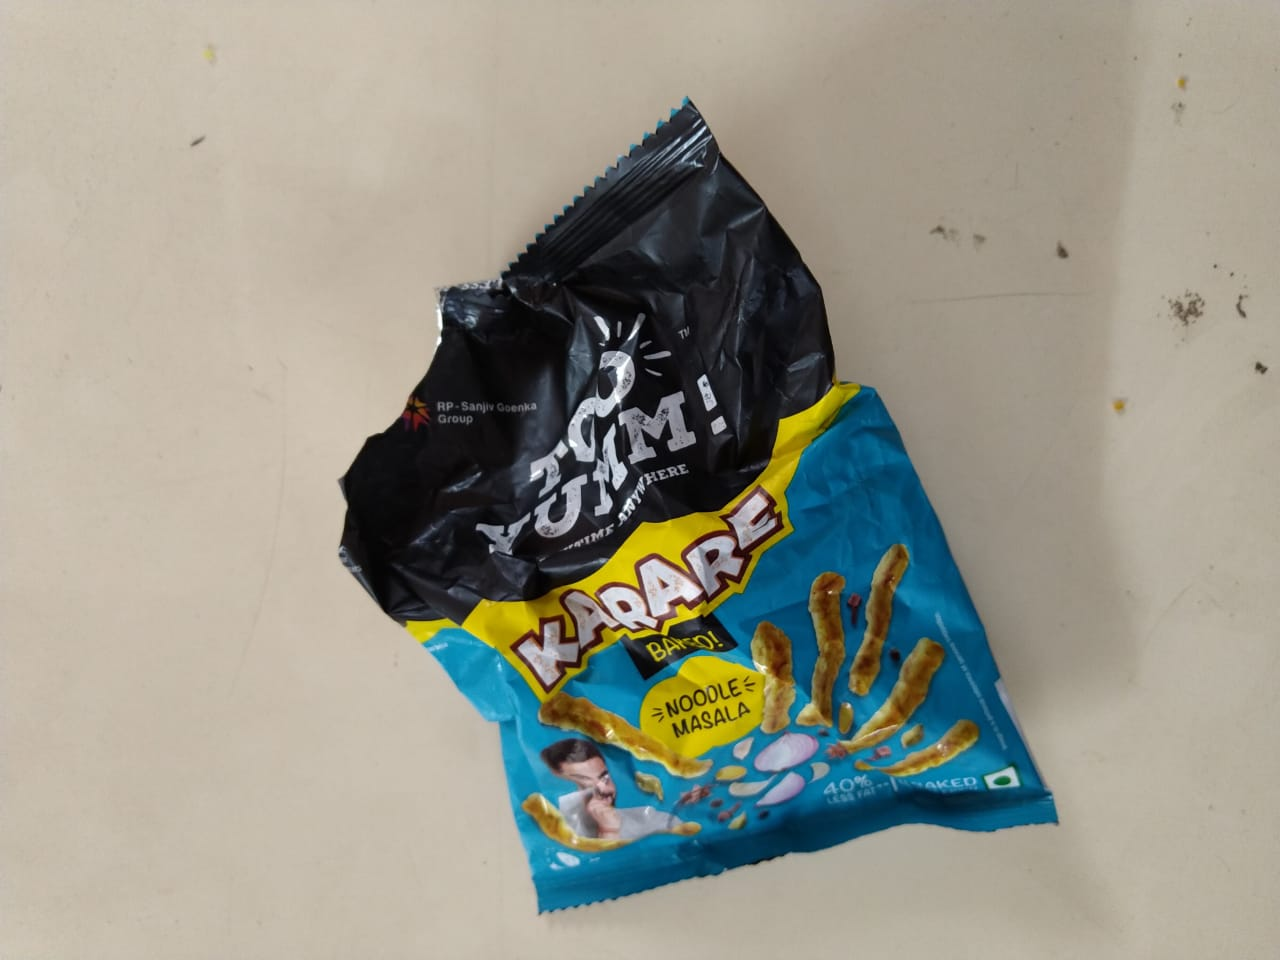plastic: (333, 77, 1105, 855)
tooyumm: (449, 291, 751, 603), (485, 337, 723, 499), (479, 397, 659, 565), (587, 305, 693, 537), (497, 373, 703, 479)
wrapper: (315, 79, 1041, 837)
